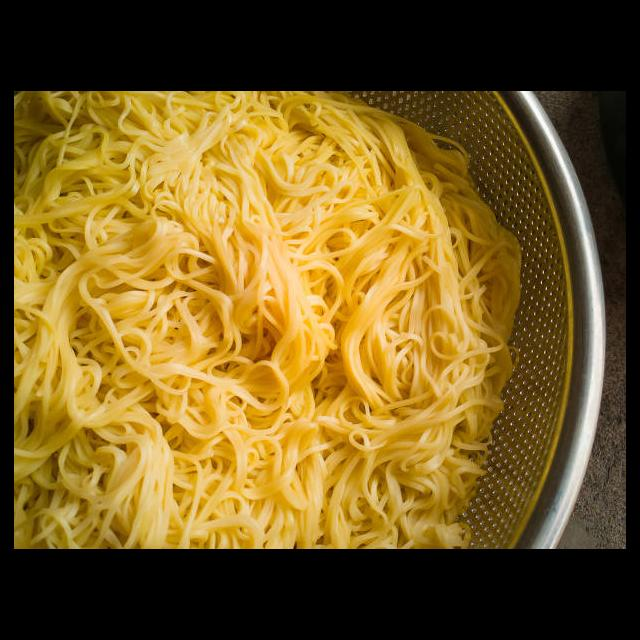noodles: (14, 91, 520, 549)
